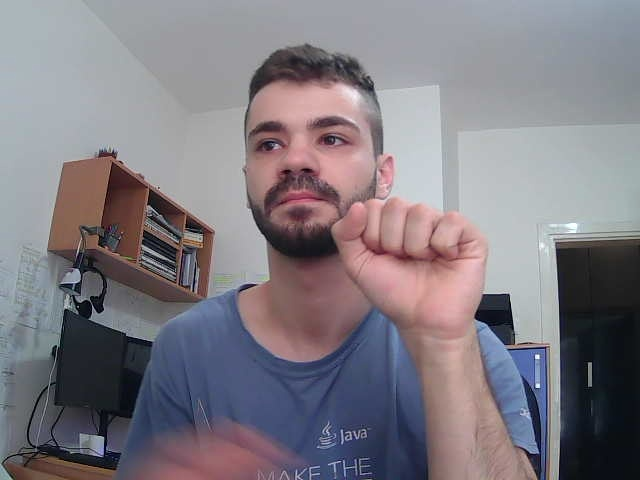a: (322, 185, 510, 362)
